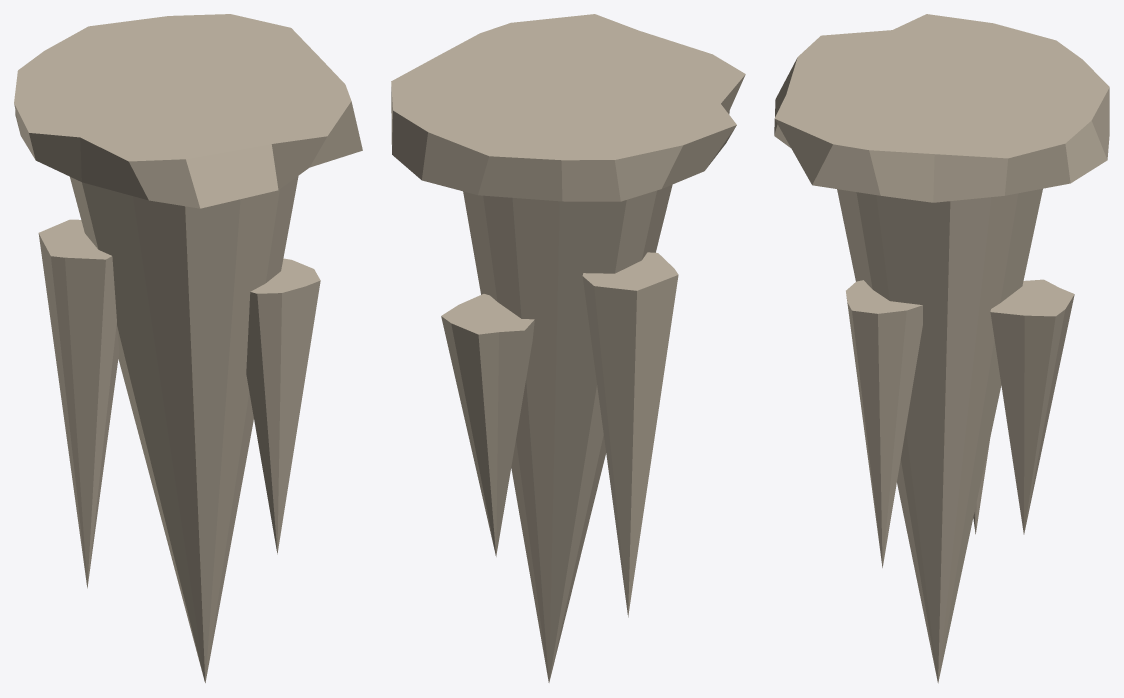
Rendered from stalactite.fbx.
The picture shows the model from 3 angles, left to right: view 1: azimuth 30°, elevation 25°; view 2: azimuth 150°, elevation 25°; view 3: azimuth 270°, elevation 25°; orthographic projection. The views are drawn at different scales.
Visible parts, largest first — view 1: stalactite; view 2: stalactite; view 3: stalactite.
Boxes of the visible parts, x1,y1,x2,y2 form: stalactite: (14,14,362,682); stalactite: (391,14,745,682); stalactite: (774,14,1109,683).
Size of the model in its own units: 0.4682 by 0.86 by 0.4484.
